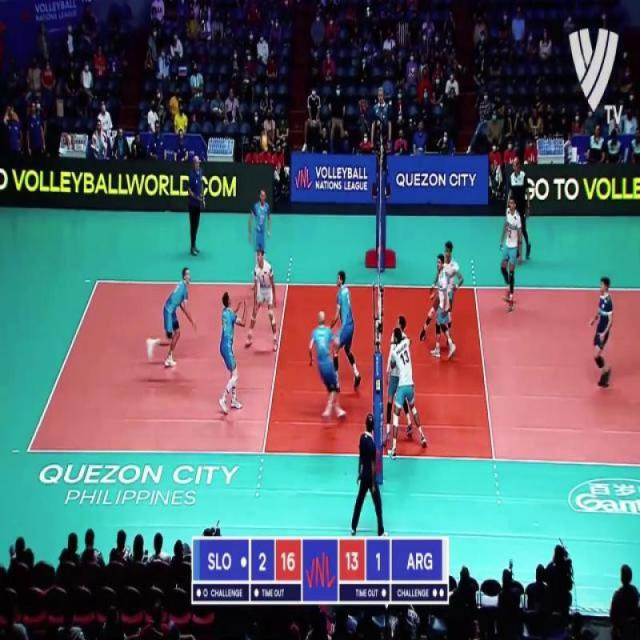volleyball: (260, 132, 268, 151)
